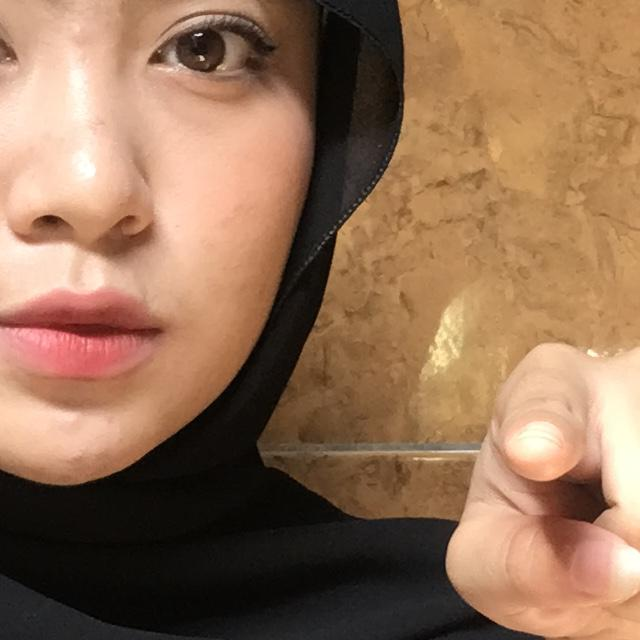kamu: (420, 306, 640, 640)
